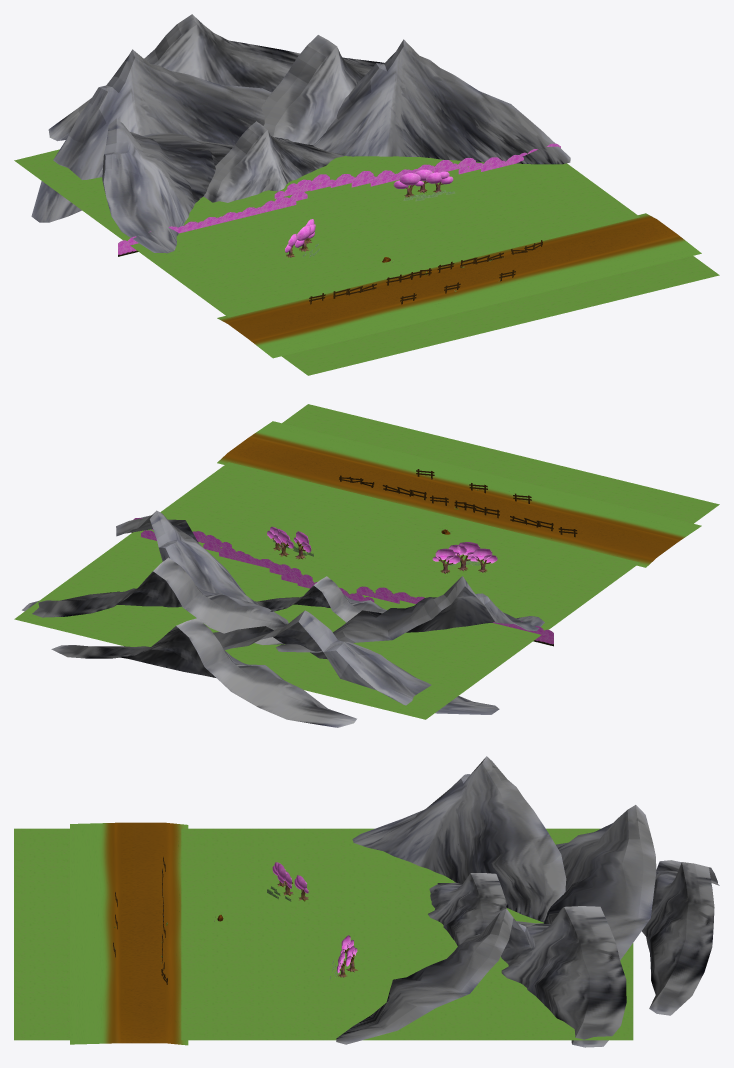
Rendered from 335_bg_roadE.fbx.
The picture shows the model from 3 angles, top to bottom: view 1: azimuth 30°, elevation 25°; view 2: azimuth 150°, elevation 25°; view 3: azimuth 270°, elevation 25°; orthographic projection. The views are drawn at different scales.
Parts seen in each view (by area): view 1: ground, bg_road_model:pPlane459, polySurface1, polySurface17, polySurface18, polySurface19, polySurface20, polySurface16; view 2: ground, bg_road_model:pPlane459, polySurface20, polySurface19, polySurface17, polySurface18, polySurface1, polySurface16; view 3: ground, bg_road_model:pPlane459, polySurface18, polySurface19, polySurface17, polySurface20, polySurface1, polySurface16.
Part boxes in pixels (bbox=[...]): ground: bbox=[14, 149, 719, 375]; bg_road_model:pPlane459: bbox=[217, 213, 701, 358]; polySurface1: bbox=[313, 39, 570, 164]; polySurface17: bbox=[31, 49, 271, 222]; polySurface18: bbox=[102, 118, 233, 253]; polySurface19: bbox=[260, 35, 384, 144]; polySurface20: bbox=[48, 14, 300, 141]; polySurface16: bbox=[203, 121, 343, 202]; ground: bbox=[14, 404, 719, 719]; bg_road_model:pPlane459: bbox=[217, 421, 701, 567]; polySurface20: bbox=[51, 618, 356, 727]; polySurface19: bbox=[22, 557, 288, 644]; polySurface17: bbox=[213, 610, 499, 714]; polySurface18: bbox=[276, 576, 544, 652]; polySurface1: bbox=[116, 510, 258, 604]; polySurface16: bbox=[255, 576, 386, 622]; ground: bbox=[14, 828, 633, 1040]; bg_road_model:pPlane459: bbox=[70, 822, 188, 1045]; polySurface18: bbox=[352, 756, 566, 922]; polySurface19: bbox=[501, 906, 626, 1047]; polySurface17: bbox=[544, 805, 656, 960]; polySurface20: bbox=[642, 860, 719, 1015]; polySurface1: bbox=[336, 908, 535, 1044]; polySurface16: bbox=[428, 873, 506, 945].
Bounding box in the file's own units: 5571 × 1254 × 7272.
